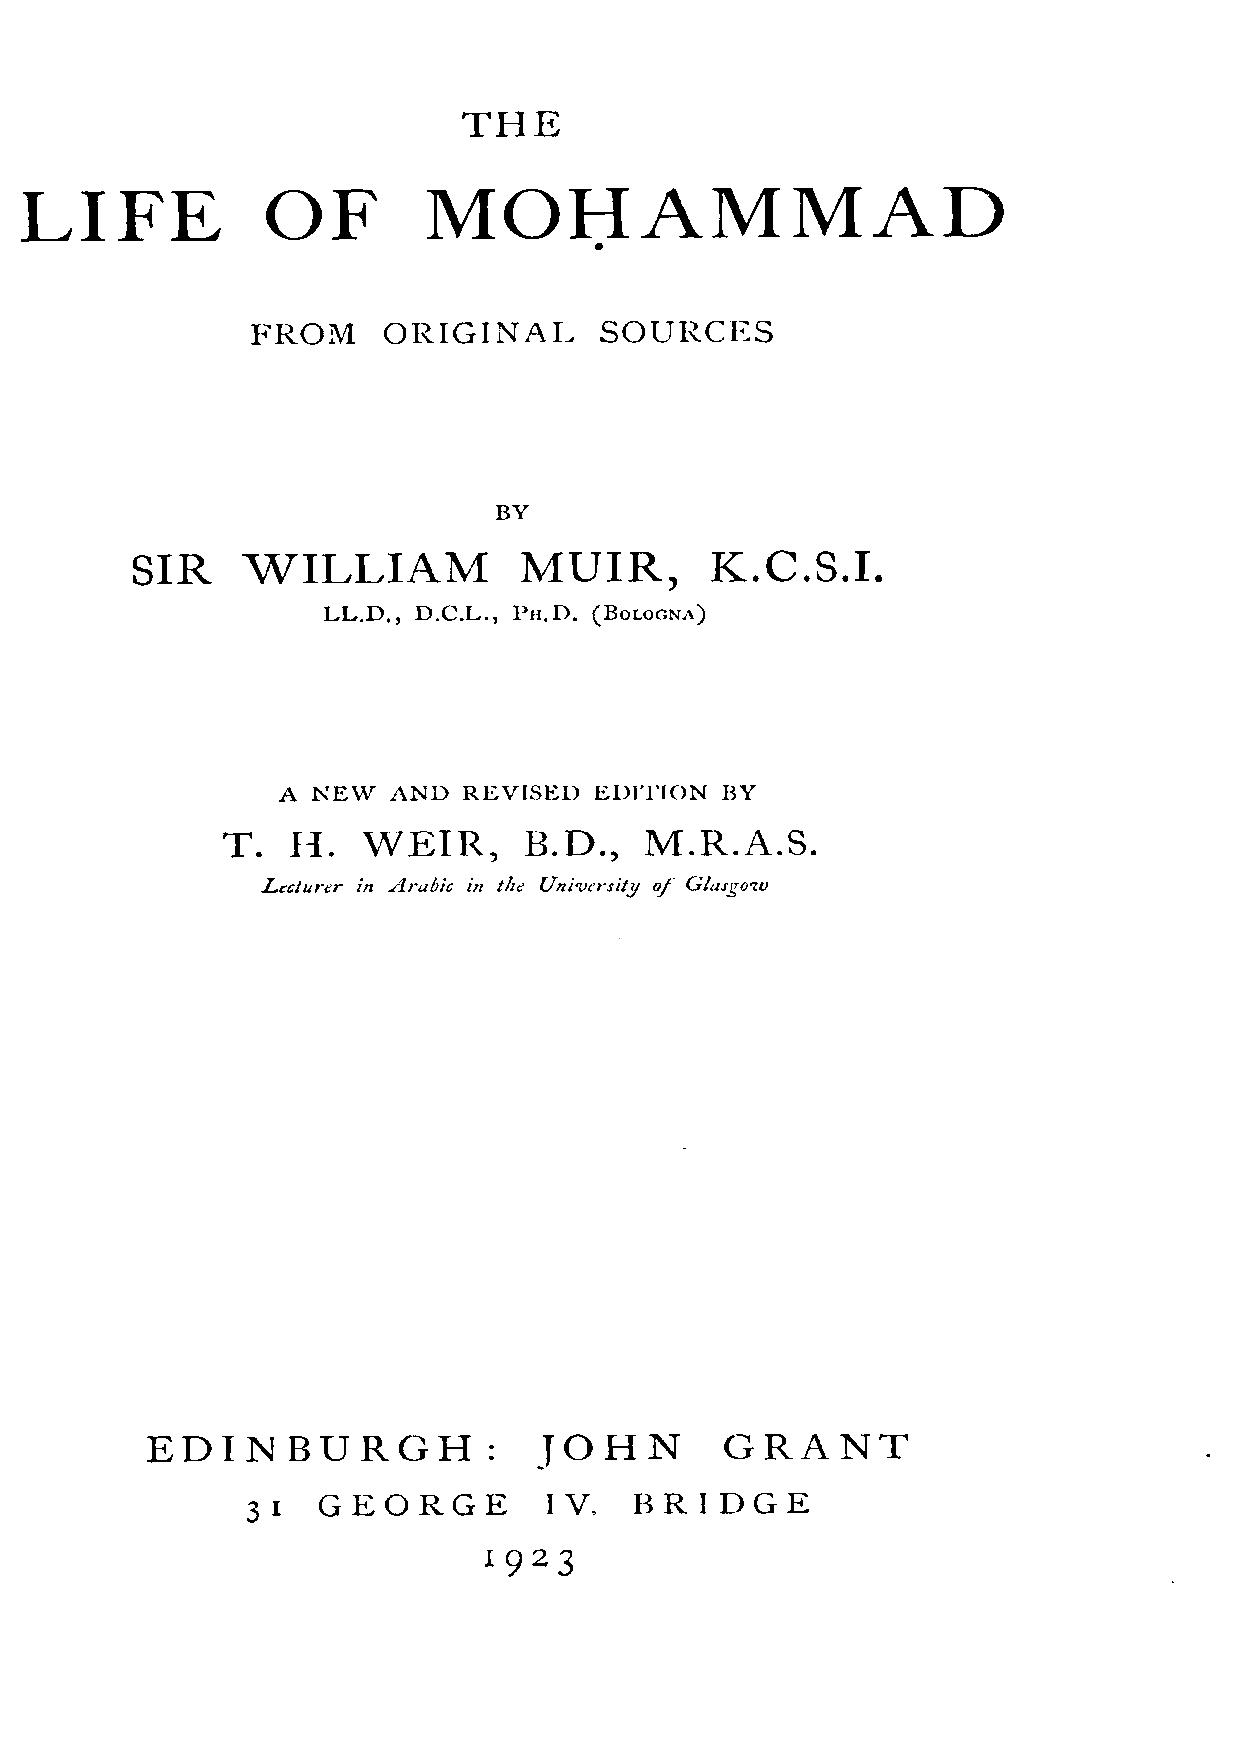author: (126, 501, 884, 590)
title: (13, 107, 1011, 244)
